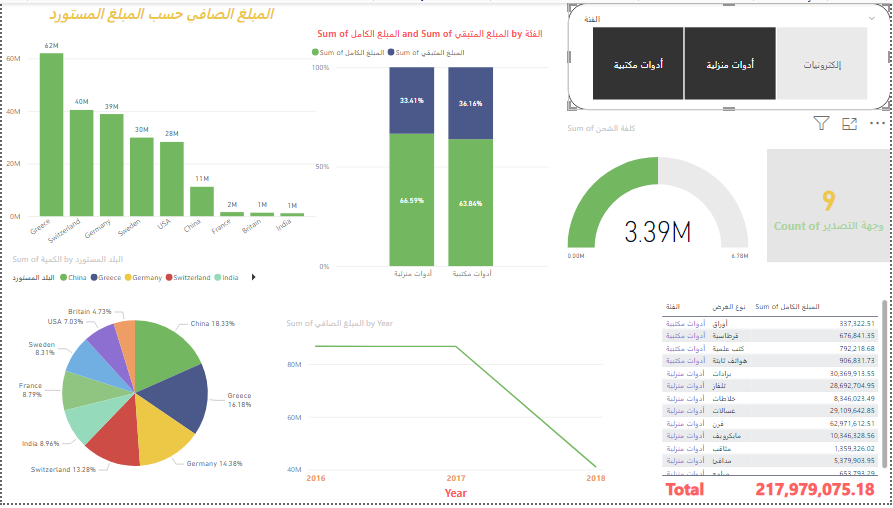

This screenshot's page, from the dashboard's own definition file:
{"tool":"powerbi","page":{"name":"Page 1","canvas":[1280,720],"ordinal":0},"visuals":[{"type":"columnChart","title":"المبلغ الصافي حسب المبلغ المستورد","fields":{"Category":["Table1.البلد المستورد"],"Y":["Sum(Table1.المبلغ الصافي)"]},"box":[0,0,457.9,360],"z":0},{"type":"pieChart","fields":{"Category":["Table1.البلد المستورد"],"Y":["Sum(Table1.الكمية)"]},"box":[10.1,360,362.9,360],"z":1000},{"type":"lineChart","fields":{"Y":["Sum(Table1.المبلغ الصافي)"],"Category":["Table1.تاريخ الاستيراد.Variation.Date Hierarchy.Year","Table1.تاريخ الاستيراد.Variation.Date Hierarchy.Quarter","Table1.تاريخ الاستيراد.Variation.Date Hierarchy.Month","Table1.تاريخ الاستيراد.Variation.Date Hierarchy.Day"]},"box":[404.6,452.2,469.4,267.8],"z":2000},{"type":"hundredPercentStackedColumnChart","fields":{"Y":["Sum(Table1.المبلغ الكامل)","Sum(Table1.المبلغ المتبقي)"],"Category":["Table1.الفئة"]},"box":[440.6,34.6,351.4,373],"z":3000},{"type":"tableEx","fields":{"Values":["Table1.الفئة","Table1.نوع الغرض","Sum(Table1.المبلغ الكامل)"]},"box":[944.6,421.9,335.5,298.1],"z":4000},{"type":"card","fields":{"Values":["Count(Table1.وجهة التصدير)"]},"box":[1101.6,210.2,178.6,162.7],"z":5000},{"type":"slicer","fields":{"Values":["Table1.الفئة"]},"box":[815,0,465.1,154.1],"z":6000},{"type":"gauge","fields":{"Y":["Sum(Table1.كلفة الشحن)"]},"box":[809.3,171.4,270.7,236.2],"z":7000}]}

Visuals, with their boxes in screenshot pixels (x1, y1, x2, y2), scaled from the page's 1280x720 canvas onto the 893x508 screenshot:
"المبلغ الصافي حسب المبلغ المستورد" columnChart: x1=0 y1=0 x2=319 y2=254
pieChart - Table1.البلد المستورد x Sum(Table1.الكمية): x1=7 y1=254 x2=260 y2=507
lineChart - Sum(Table1.المبلغ الصافي) x Table1.تاريخ الاستيراد.Variation.Date Hierarchy.Year: x1=282 y1=319 x2=610 y2=507
hundredPercentStackedColumnChart - Sum(Table1.المبلغ الكامل) x Sum(Table1.المبلغ المتبقي): x1=307 y1=24 x2=553 y2=288
tableEx - Table1.الفئة x Table1.نوع الغرض: x1=659 y1=298 x2=892 y2=507
card - Count(Table1.وجهة التصدير): x1=769 y1=148 x2=892 y2=263
slicer - Table1.الفئة: x1=569 y1=0 x2=892 y2=109
gauge - Sum(Table1.كلفة الشحن): x1=565 y1=121 x2=753 y2=288
